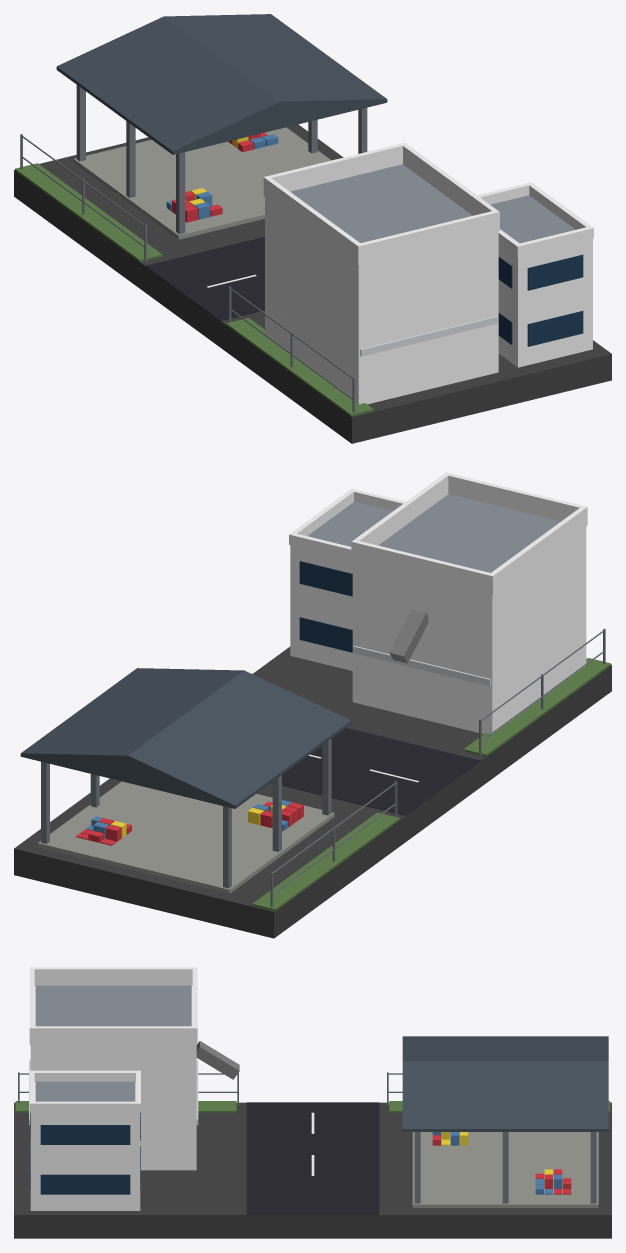
Rendered from port_building.fbx.
3 views of the same model, one above another, from view 1: azimuth 30°, elevation 25°; view 2: azimuth 150°, elevation 25°; view 3: azimuth 270°, elevation 25° (orthographic). The views are drawn at different scales.
Visible parts, largest first — view 1: a1001_0_port_building; view 2: a1001_0_port_building; view 3: a1001_0_port_building.
Boxes of the visible parts, x1,y1,x2,y2 form: a1001_0_port_building: (14,14,611,443); a1001_0_port_building: (14,472,611,938); a1001_0_port_building: (14,967,611,1238).
Size of the model in its own units: 16 by 11 by 36.
